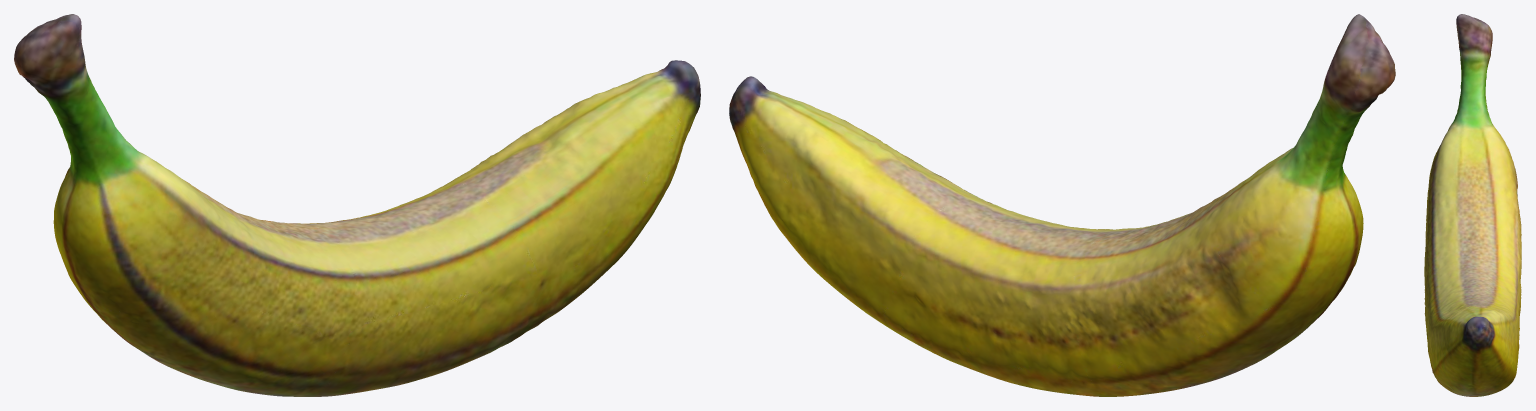
File: banana.glb
3 renders of one model, left to right at view 1: azimuth 30°, elevation 25°; view 2: azimuth 150°, elevation 25°; view 3: azimuth 270°, elevation 25°, orthographic. The views are drawn at different scales.
Parts seen in each view (by area): view 1: Mesh1; view 2: Mesh1; view 3: Mesh1.
Part boxes in pixels (<box>): Mesh1: <box>14,14,700,396</box>; Mesh1: <box>729,14,1395,396</box>; Mesh1: <box>1424,14,1521,396</box>.
Size of the model in its own units: 1.2 by 0.7523 by 0.2509.
Materials: 1 (1 with a texture image).
